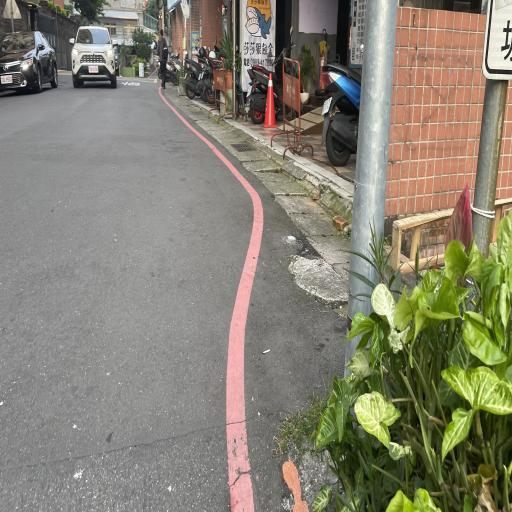car: (0, 29, 59, 105), (66, 16, 122, 96)
redline: (156, 76, 270, 512)
